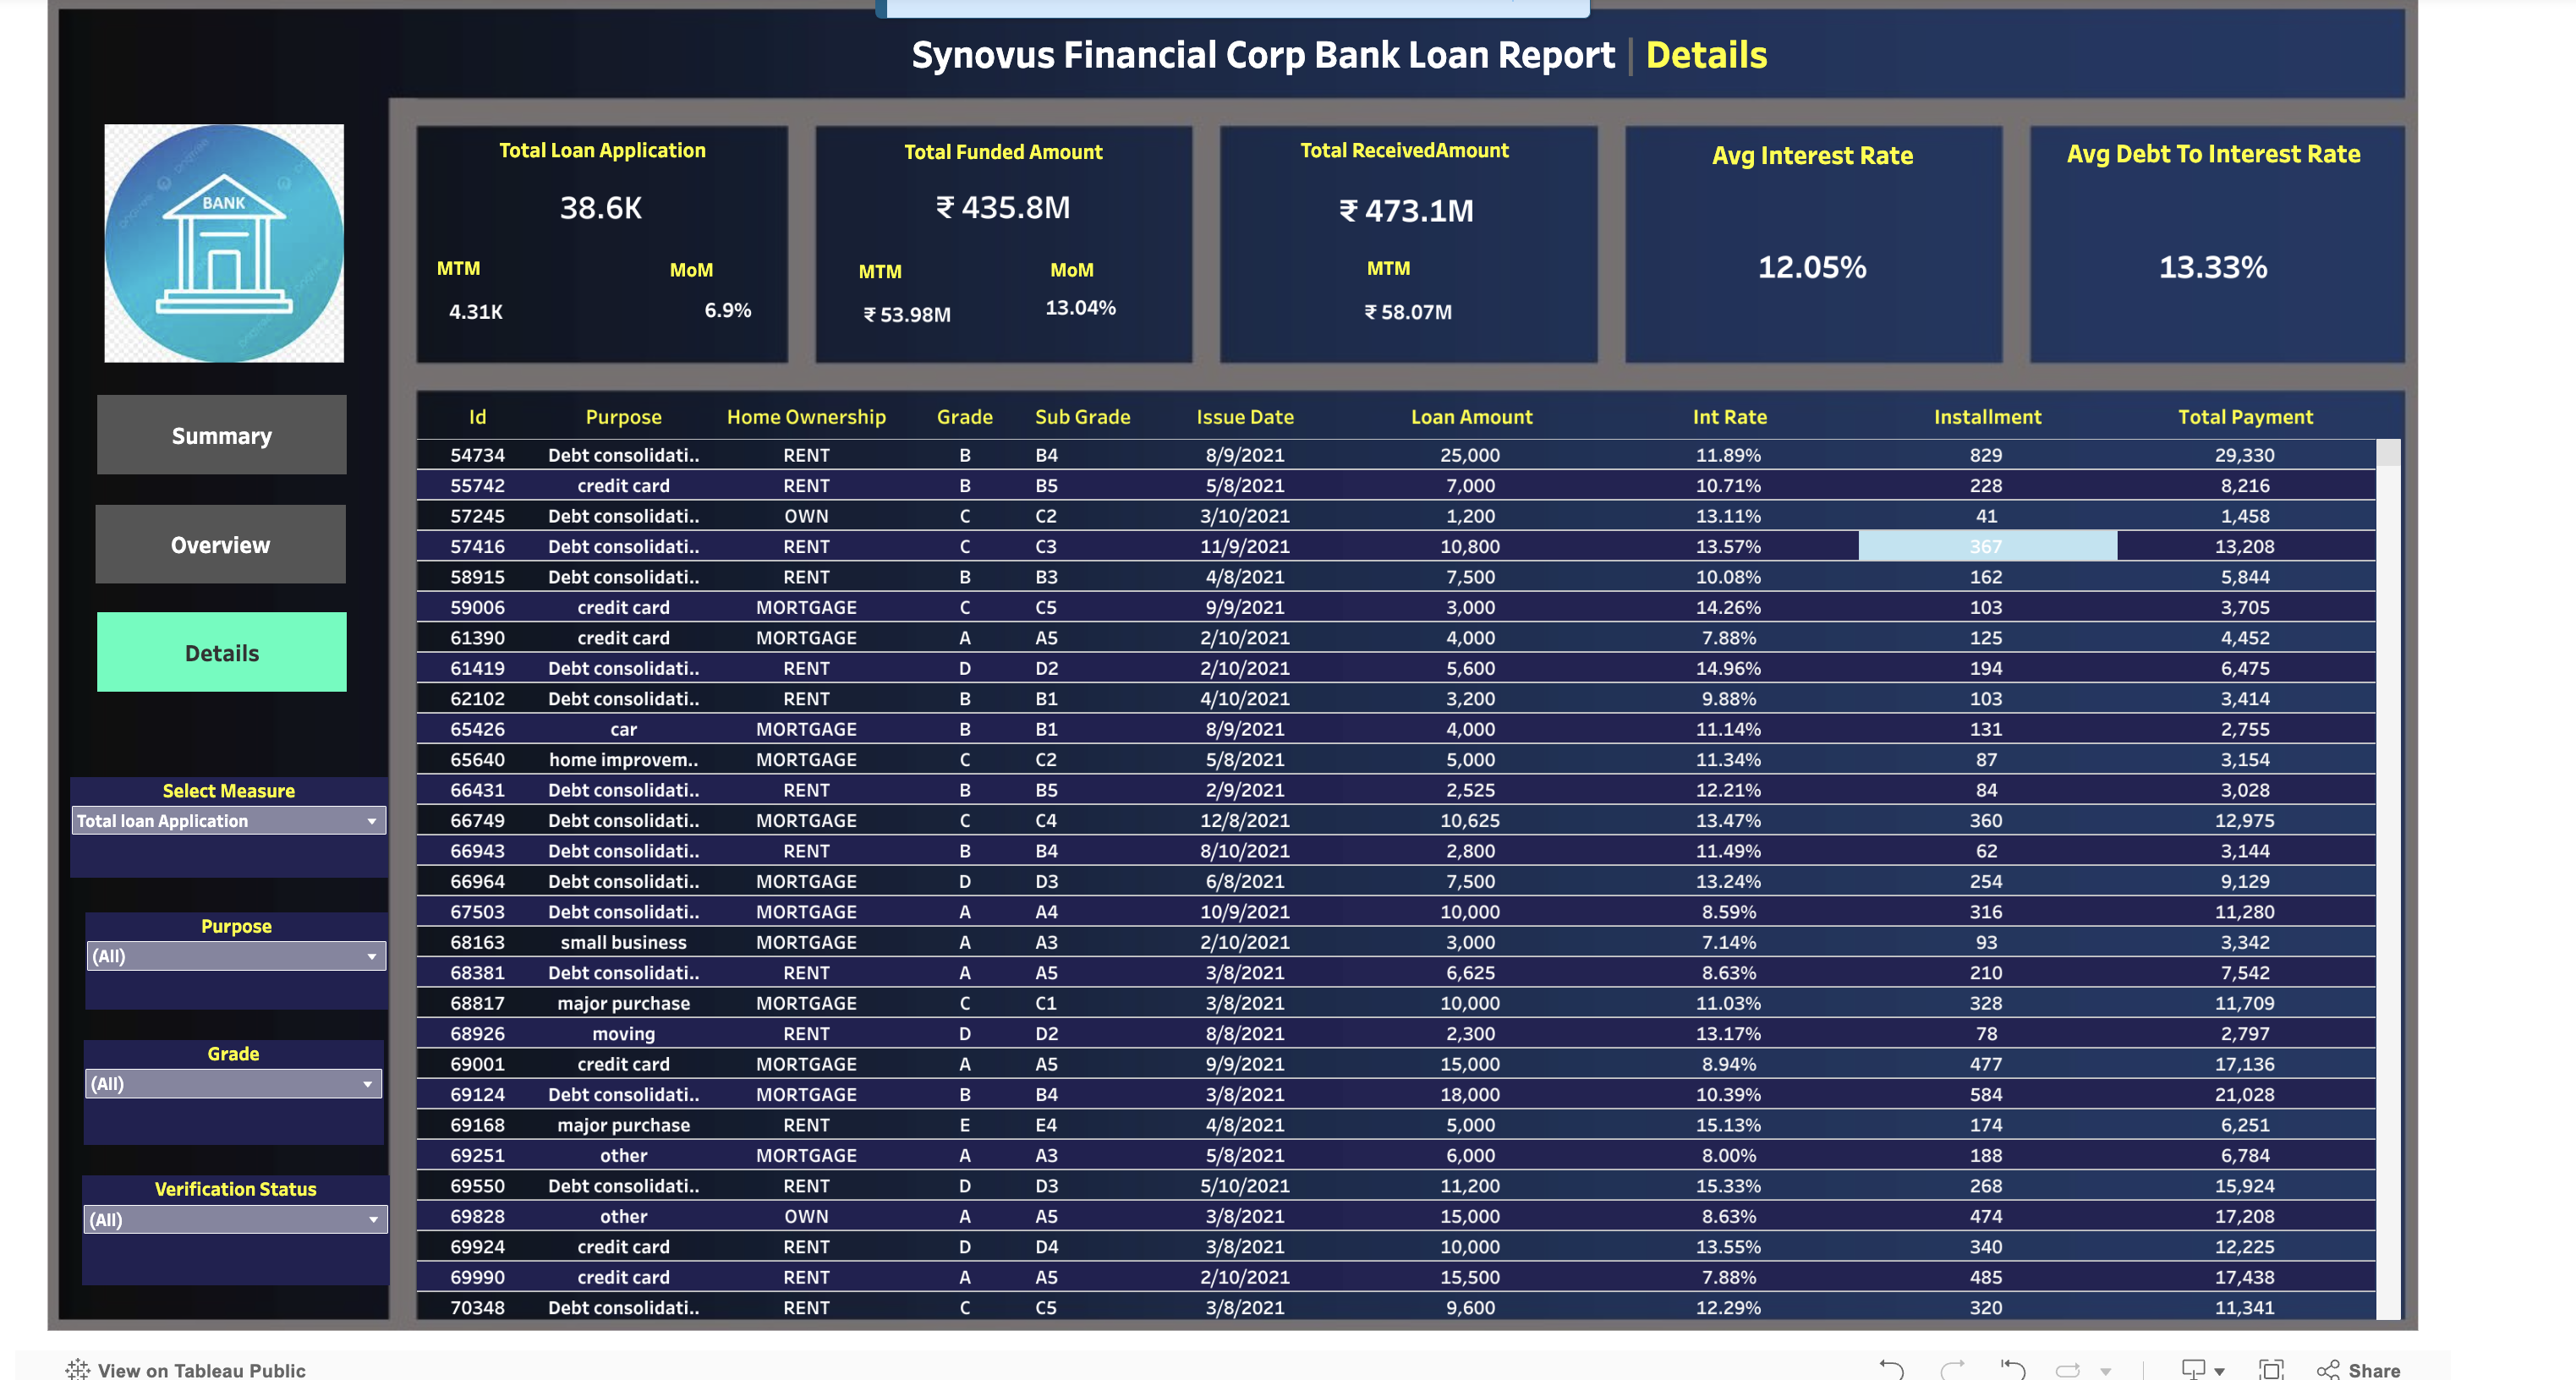

This screenshot's page, from the dashboard's own definition file:
{"tool":"tableau","page":{"name":"Details","canvas":[1600,900],"ordinal":0},"visuals":[{"type":"image","param":"Image/Tableau Background 3.jpg","box":[8,8,1584,884]},{"type":"text","box":[589,8,613,81]},{"type":"image","param":"Image/bank logo.jpg","box":[53,95,169,157]},{"type":"worksheet","title":"Total Loan Application","mark":"Automatic","box":[264,96,244,72]},{"type":"worksheet","title":"Total ReceivedAmount ","mark":"Automatic","box":[792,96,245,77]},{"type":"worksheet","title":"Avg Debt To Interest Rate","mark":"Automatic","box":[1322,96,245,147]},{"type":"worksheet","title":"Total Funded Amount","mark":"Automatic","box":[527,97,245,70]},{"type":"worksheet","title":"Avg Interest Rate","mark":"Automatic","box":[1058,97,246,145]},{"type":"worksheet","title":"MTD Loan Application","mark":"Automatic","box":[259,170,88,96]},{"type":"text","box":[277,175,72,30]},{"type":"text","box":[888,175,72,30]},{"type":"text","box":[430,176,72,30]},{"type":"text","box":[680,176,72,30]},{"type":"text","box":[554,177,72,30]},{"type":"worksheet","title":"MTD Total Received Amount","mark":"Automatic","box":[835,180,161,75]},{"type":"worksheet","title":"MTD Funded Amount","mark":"Automatic","box":[521,187,132,66]},{"type":"worksheet","title":"MOM Total Funded Amount","mark":"Automatic","box":[668,205,87,31]},{"type":"worksheet","title":"MOM Loan Application","mark":"Automatic","box":[429,207,69,62]},{"type":"worksheet","title":"Details Tab","mark":"Automatic","rows":["id","purpose","home_ownership","grade","sub_grade","issue_date"],"box":[264,270,1305,611]},{"type":"dashboard-object","box":[54,273,164,52]},{"type":"dashboard-object","box":[53,345,164,52]},{"type":"dashboard-object","box":[54,416,164,52]},{"type":"parameter","param":"[Parameters].[Parameter 1]","box":[36,524,209,66]},{"type":"filter","title":"Avg Debt To Interest Rate","param":"[federated.0f3mjcy0o69zlp1cbd7410tlexed].[none:purpose:nk]","box":[46,613,199,64]},{"type":"filter","title":"Avg Debt To Interest Rate","param":"[federated.0f3mjcy0o69zlp1cbd7410tlexed].[none:grade:nk]","box":[45,697,197,69]},{"type":"filter","title":"Avg Debt To Interest Rate","param":"[federated.0f3mjcy0o69zlp1cbd7410tlexed].[none:verification_status:nk]","box":[44,786,202,72]}]}

Visuals, with their boxes on the page's 1600x900 design canvas (x1, y1, x2, y2). These are canvas units, not pixel positions in the 2576x1380 screenshot, which may show the page scaled, cropped or inside an application window:
image: crop(8, 8, 1592, 892)
text: crop(589, 8, 1202, 89)
image: crop(53, 95, 222, 252)
"Total Loan Application" worksheet: crop(264, 96, 508, 168)
"Total ReceivedAmount " worksheet: crop(792, 96, 1037, 173)
"Avg Debt To Interest Rate" worksheet: crop(1322, 96, 1567, 243)
"Total Funded Amount" worksheet: crop(527, 97, 772, 167)
"Avg Interest Rate" worksheet: crop(1058, 97, 1304, 242)
"MTD Loan Application" worksheet: crop(259, 170, 347, 266)
text: crop(277, 175, 349, 205)
text: crop(888, 175, 960, 205)
text: crop(430, 176, 502, 206)
text: crop(680, 176, 752, 206)
text: crop(554, 177, 626, 207)
"MTD Total Received Amount" worksheet: crop(835, 180, 996, 255)
"MTD Funded Amount" worksheet: crop(521, 187, 653, 253)
"MOM Total Funded Amount" worksheet: crop(668, 205, 755, 236)
"MOM Loan Application" worksheet: crop(429, 207, 498, 269)
"Details Tab" worksheet: crop(264, 270, 1569, 881)
dashboard-object: crop(54, 273, 218, 325)
dashboard-object: crop(53, 345, 217, 397)
dashboard-object: crop(54, 416, 218, 468)
parameter: crop(36, 524, 245, 590)
"Avg Debt To Interest Rate" filter: crop(46, 613, 245, 677)
"Avg Debt To Interest Rate" filter: crop(45, 697, 242, 766)
"Avg Debt To Interest Rate" filter: crop(44, 786, 246, 858)
